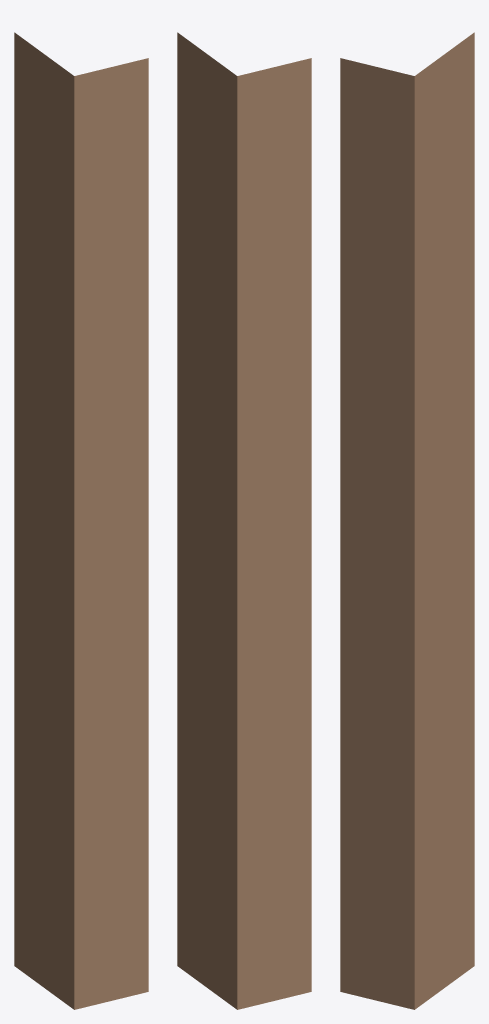
Rendered from env_block_brick_column_small.glb.
The picture shows the model from 3 angles, left to right: view 1: azimuth 30°, elevation 25°; view 2: azimuth 210°, elevation 25°; view 3: azimuth 330°, elevation 25°; orthographic projection.
Parts seen in each view (by area): view 1: geometry_0; view 2: geometry_0; view 3: geometry_0.
Boxes of the visible parts, bbox=[...] form: geometry_0: bbox=[14, 32, 148, 1009]; geometry_0: bbox=[177, 32, 311, 1009]; geometry_0: bbox=[340, 32, 474, 1009].
Size of the model in its own units: 0.25 by 3 by 0.35.
